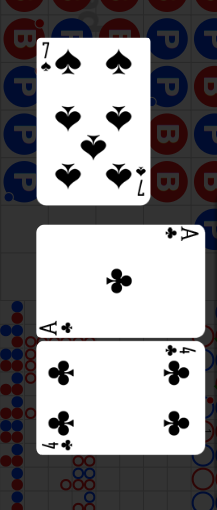4C: (163, 344, 197, 359)
7S: (39, 41, 53, 74)
AC: (39, 318, 78, 336)
